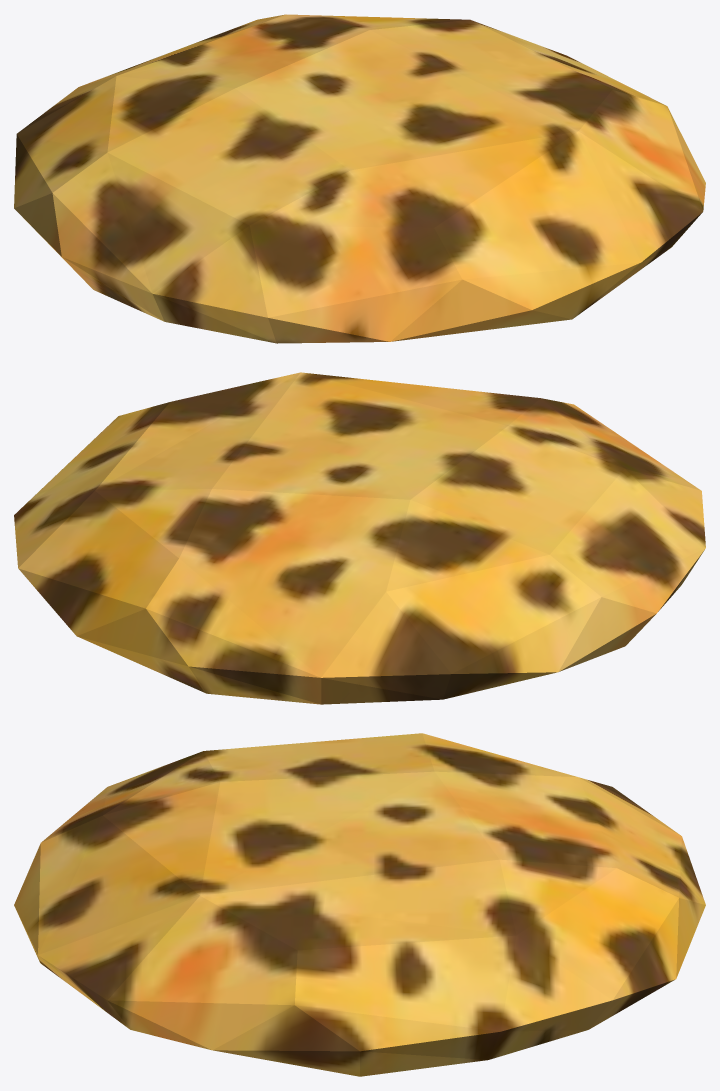
File: quaternius-junk-food-cookie.glb
The picture shows the model from 3 angles, top to bottom: view 1: azimuth 30°, elevation 25°; view 2: azimuth 150°, elevation 25°; view 3: azimuth 270°, elevation 25°; orthographic projection.
Parts seen in each view (by area): view 1: Cookie; view 2: Cookie; view 3: Cookie.
Boxes of the visible parts, x1,y1,x2,y2 form: Cookie: [14, 14, 705, 343]; Cookie: [14, 372, 705, 704]; Cookie: [14, 733, 705, 1076].
Size of the model in its own units: 1.42 by 0.2976 by 1.42.
Materials: 1 (1 with a texture image).
